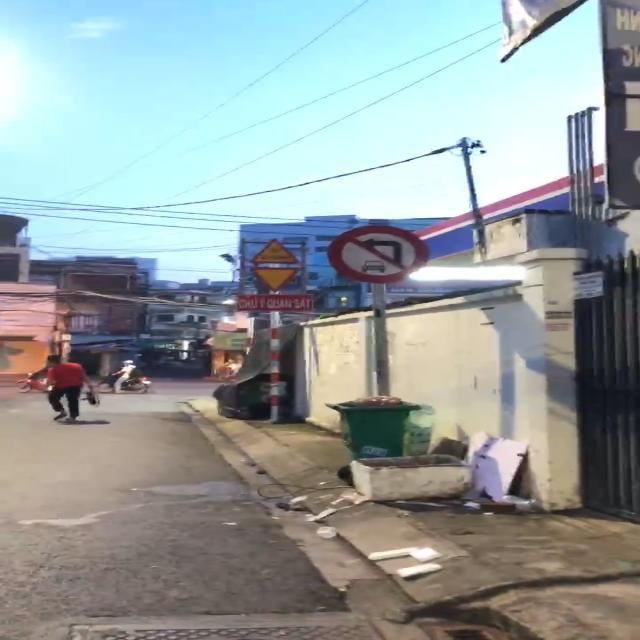Bien bao cam xe o to re trai: (321, 223, 440, 285)
Bien bao giao nhau voi duong uu tien: (247, 266, 307, 293)
